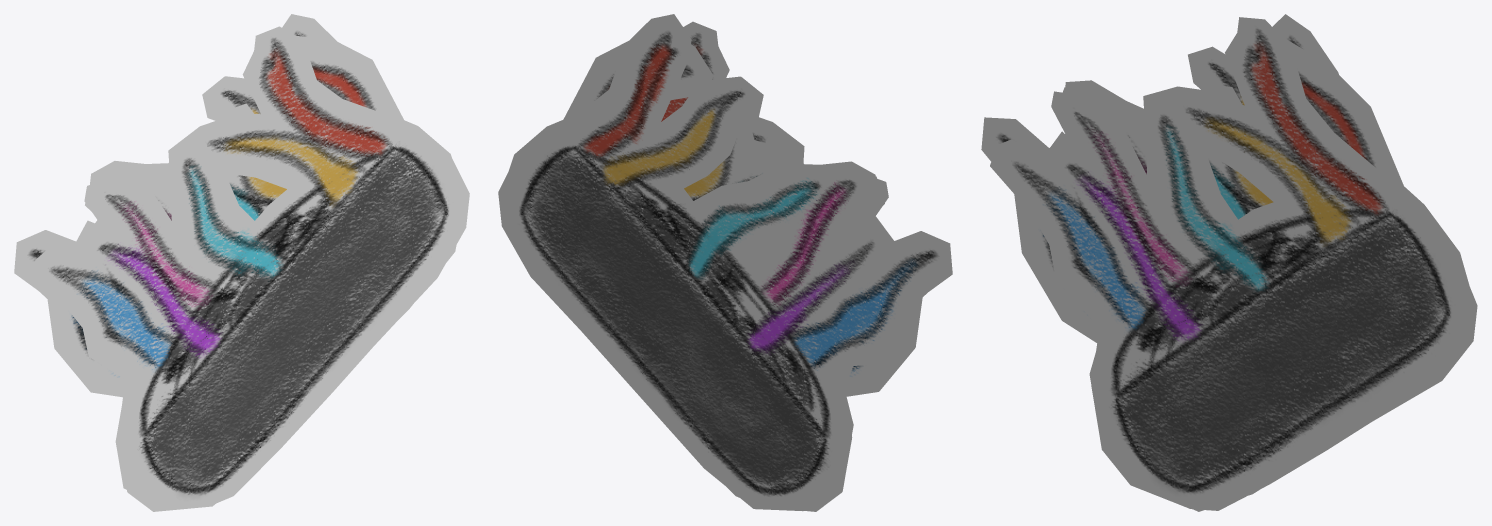
The model's file is FanOn.fbx.
The picture shows the model from 3 angles, left to right: view 1: azimuth 30°, elevation 25°; view 2: azimuth 150°, elevation 25°; view 3: azimuth 330°, elevation 25°; orthographic projection. The views are drawn at different scales.
Visible parts, largest first — view 1: Fan3, Fan2, Fan1; view 2: Fan1, Fan2, Fan3; view 3: Fan3, Fan2, Fan1.
Part boxes in pixels (left/top/right/bottom): Fan3: left=28, top=26, right=465, bottom=508; Fan2: left=47, top=36, right=469, bottom=511; Fan1: left=14, top=14, right=451, bottom=506; Fan1: left=500, top=14, right=952, bottom=511; Fan2: left=498, top=41, right=922, bottom=511; Fan3: left=661, top=21, right=893, bottom=434; Fan3: left=990, top=17, right=1469, bottom=508; Fan2: left=1014, top=38, right=1477, bottom=510; Fan1: left=981, top=14, right=1469, bottom=511.
Bounding box in the file's own units: 30.76 × 30.65 × 0.3895.
Materials: 1 (1 with a texture image).
